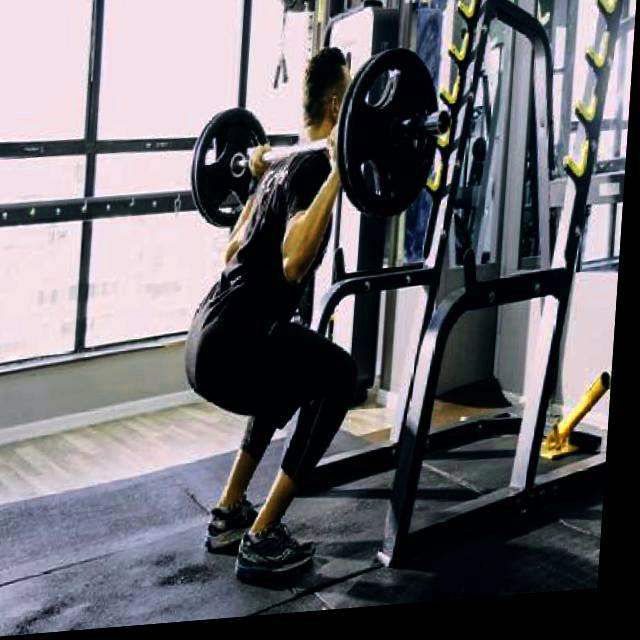barbell: (342, 49, 460, 228)
